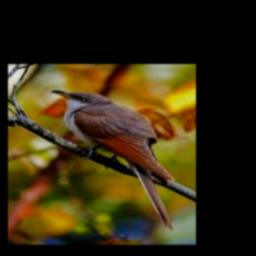Cuckoo: (51, 90, 175, 230)
